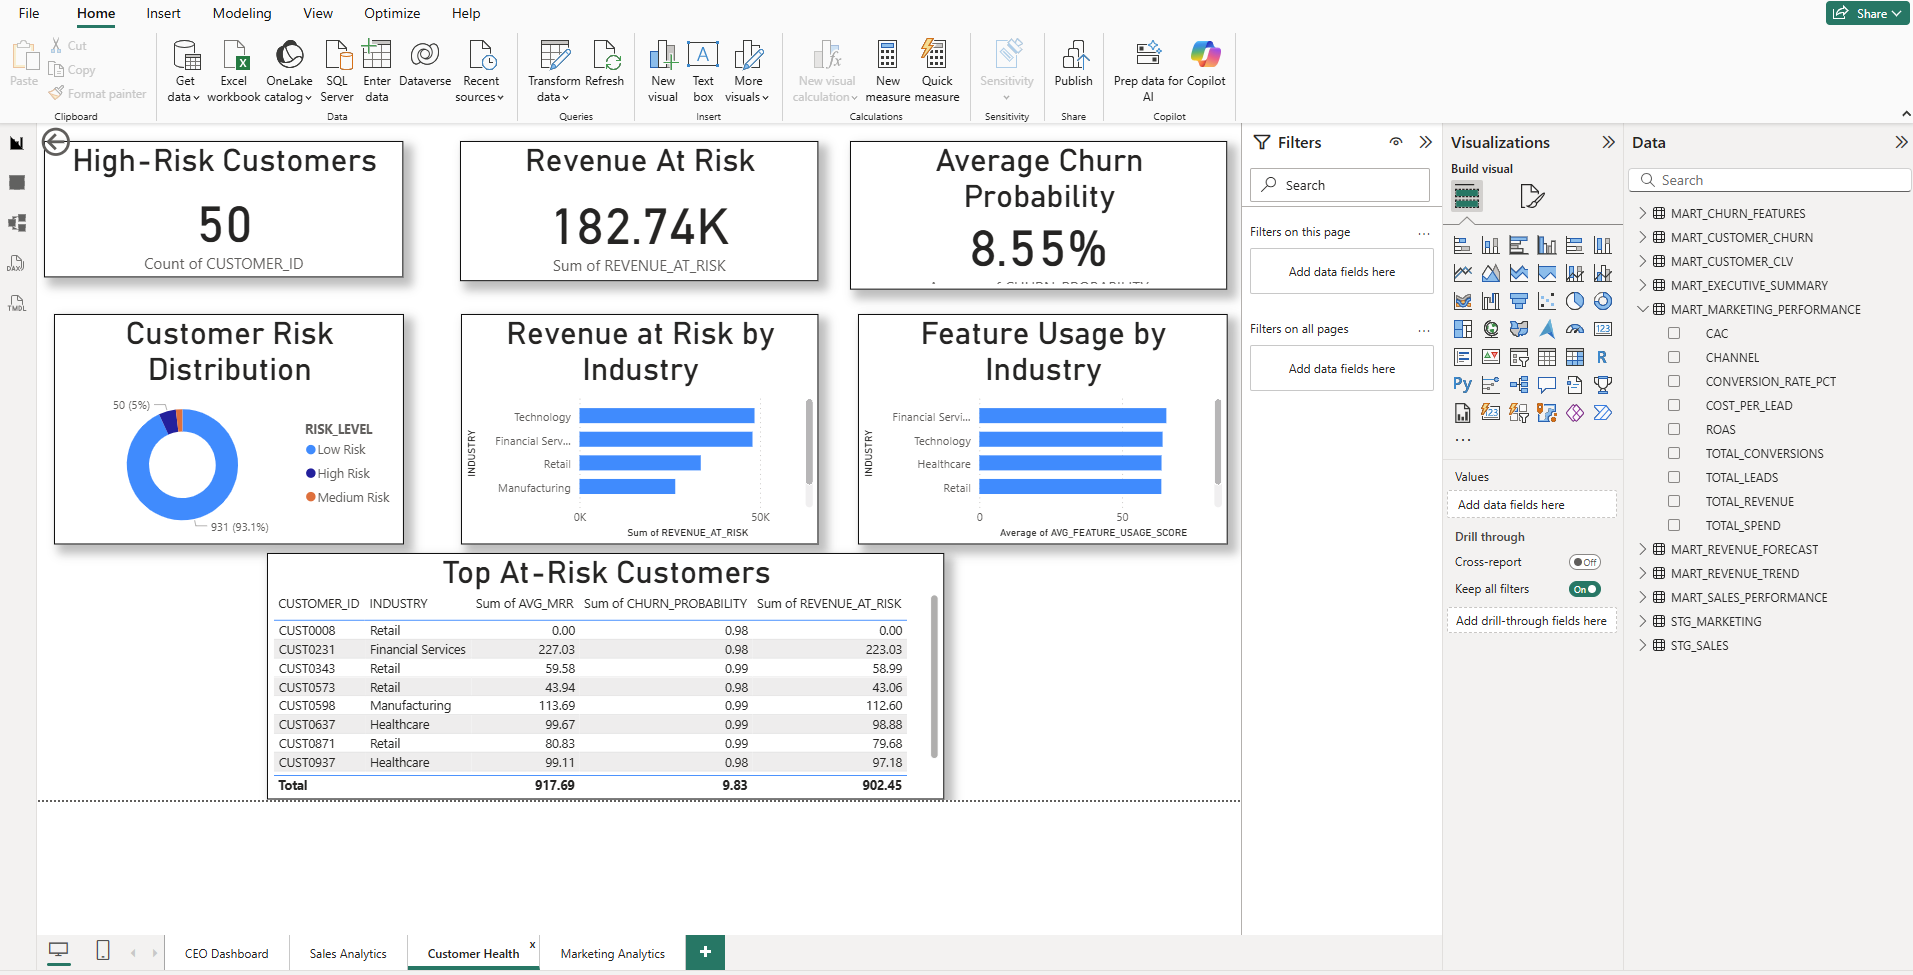

The page's visual inventory and layout, read from the dashboard file:
{"tool":"powerbi","page":{"name":"Customer Health","canvas":[1280,720],"ordinal":2},"visuals":[{"type":"card","title":"High-Risk Customers","fields":{"Values":["Count(MART_CUSTOMER_CHURN.CUSTOMER_ID)"]},"box":[7.3,18.8,382.4,145.2],"z":0},{"type":"card","title":"Revenue At Risk","fields":{"Values":["Sum(MART_CUSTOMER_CHURN.REVENUE_AT_RISK)"]},"box":[449.3,18.8,381.4,149.4],"z":1000},{"type":"card","title":"Average Churn Probability","fields":{"Values":["Avg(MART_CUSTOMER_CHURN.CHURN_PROBABILITY)"]},"box":[864.1,18.8,401.2,157.8],"z":2000},{"type":"donutChart","title":"Customer Risk Distribution","fields":{"Category":["MART_CUSTOMER_CHURN.RISK_LEVEL"],"Y":["CountNonNull(MART_CUSTOMER_CHURN.CUSTOMER_ID)"]},"box":[17.8,202.7,372,244.5],"z":3000},{"type":"clusteredBarChart","title":"Revenue at Risk by Industry","fields":{"Category":["MART_CUSTOMER_CHURN.INDUSTRY"],"Y":["Sum(MART_CUSTOMER_CHURN.REVENUE_AT_RISK)"]},"box":[450.4,202.7,380.3,244.5],"z":4000},{"type":"clusteredBarChart","title":"Feature Usage by Industry","fields":{"Category":["MART_CHURN_FEATURES.INDUSTRY"],"Y":["Avg(MART_CHURN_FEATURES.AVG_FEATURE_USAGE_SCORE)"]},"box":[872.5,202.7,392.9,244.5],"z":5000},{"type":"tableEx","title":"Top At-Risk Customers","fields":{"Values":["MART_CHURN_FEATURES.CUSTOMER_ID","MART_CHURN_FEATURES.INDUSTRY","Sum(MART_CHURN_FEATURES.AVG_MRR)","Sum(MART_CUSTOMER_CLV.CHURN_PROBABILITY)","Sum(MART_CUSTOMER_CLV.REVENUE_AT_RISK)"]},"box":[244.5,457.7,719.9,262.3],"z":6000},{"type":"actionButton","box":[0,0,100,40],"z":7000}]}

Visuals, with their boxes on the page's 1280x720 design canvas (x1, y1, x2, y2). These are canvas units, not pixel positions in the 1913x975 screenshot, which may show the page scaled, cropped or inside an application window:
"High-Risk Customers" card: <region>7, 19, 390, 164</region>
"Revenue At Risk" card: <region>449, 19, 831, 168</region>
"Average Churn Probability" card: <region>864, 19, 1265, 177</region>
"Customer Risk Distribution" donutChart: <region>18, 203, 390, 447</region>
"Revenue at Risk by Industry" clusteredBarChart: <region>450, 203, 831, 447</region>
"Feature Usage by Industry" clusteredBarChart: <region>872, 203, 1265, 447</region>
"Top At-Risk Customers" tableEx: <region>244, 458, 964, 720</region>
actionButton: <region>0, 0, 100, 40</region>
